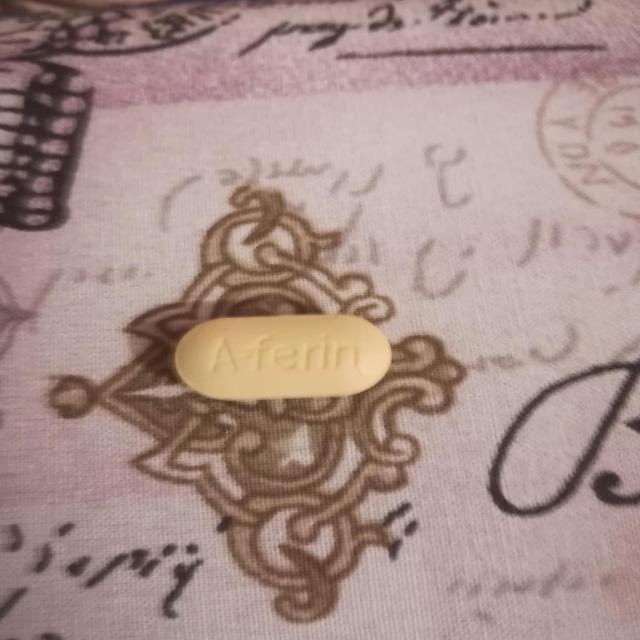pill: (170, 314, 393, 400)
